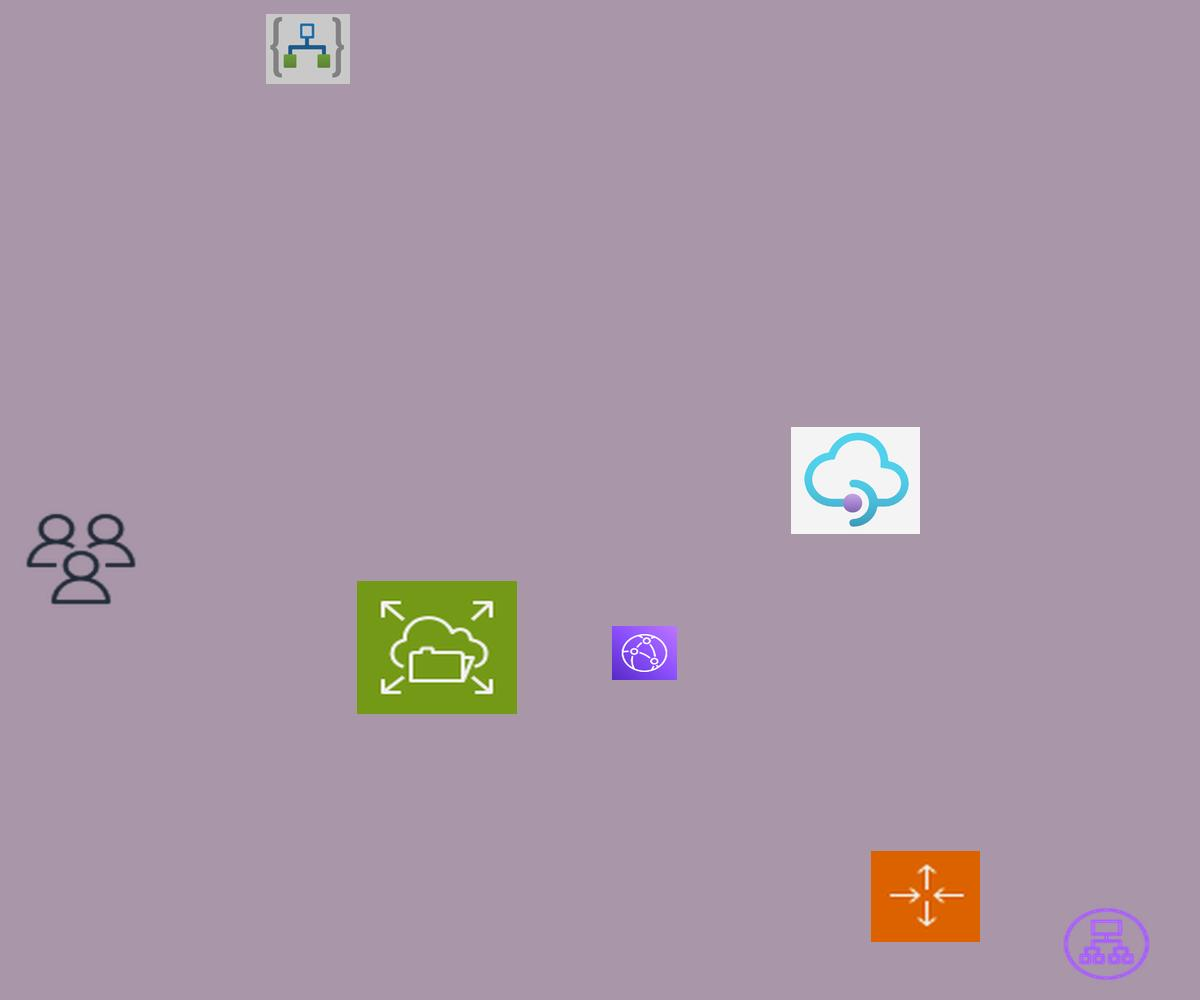AWS-CloudFront: (612, 626, 677, 680)
AWS-EFS: (357, 581, 517, 714)
AWS-Res_Elastic-Load-Balancing_Application-Load-Balancer: (1060, 905, 1153, 983)
AWS-Res_Users: (22, 510, 140, 608)
AWS-Scaling-group: (871, 851, 980, 942)
Azure_api_gateway: (791, 427, 920, 534)
Azure_integration-204-Logic-Apps: (266, 14, 350, 84)
